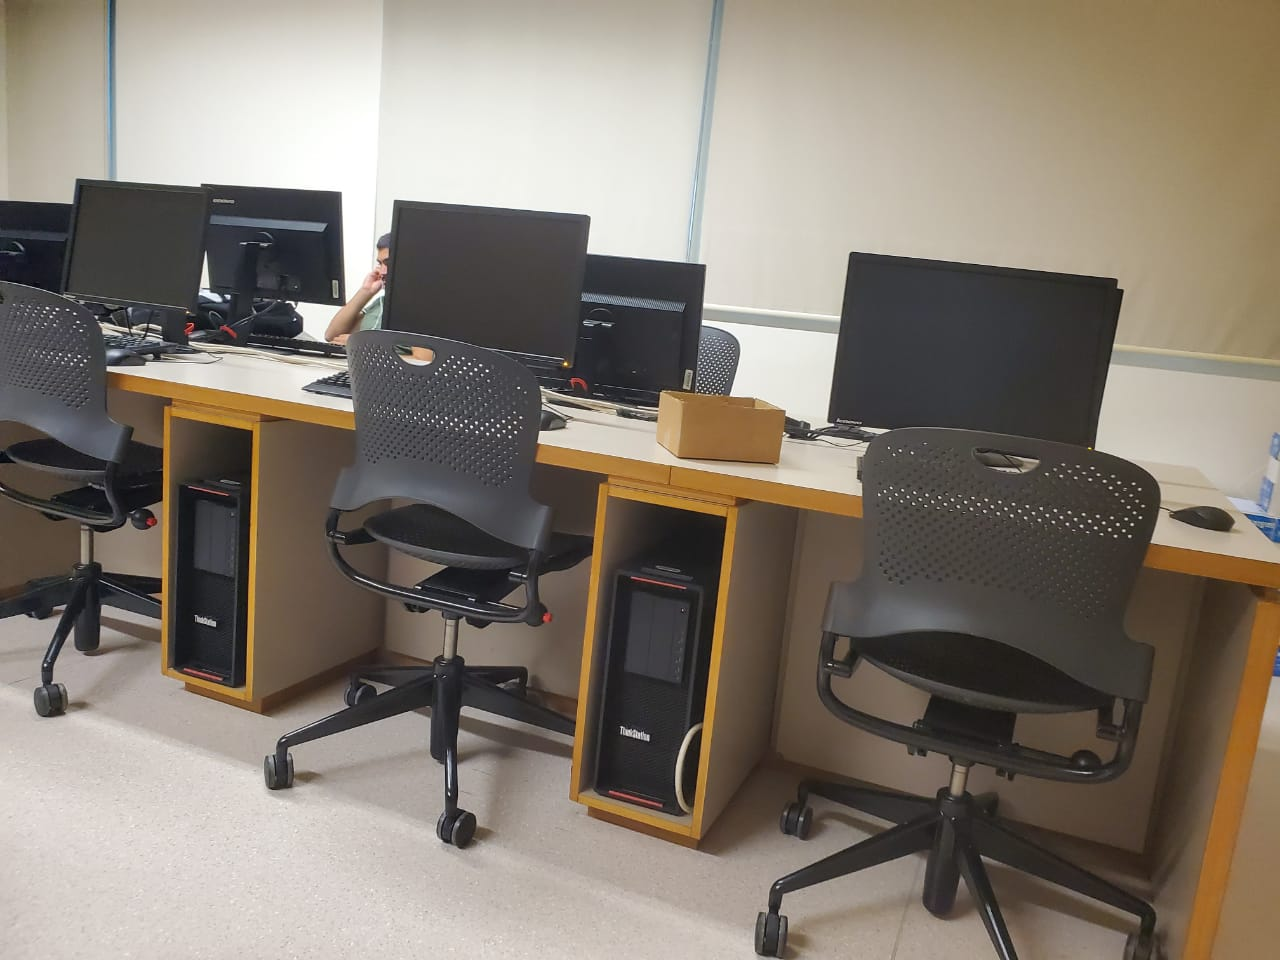CBox: (655, 372, 791, 465)
